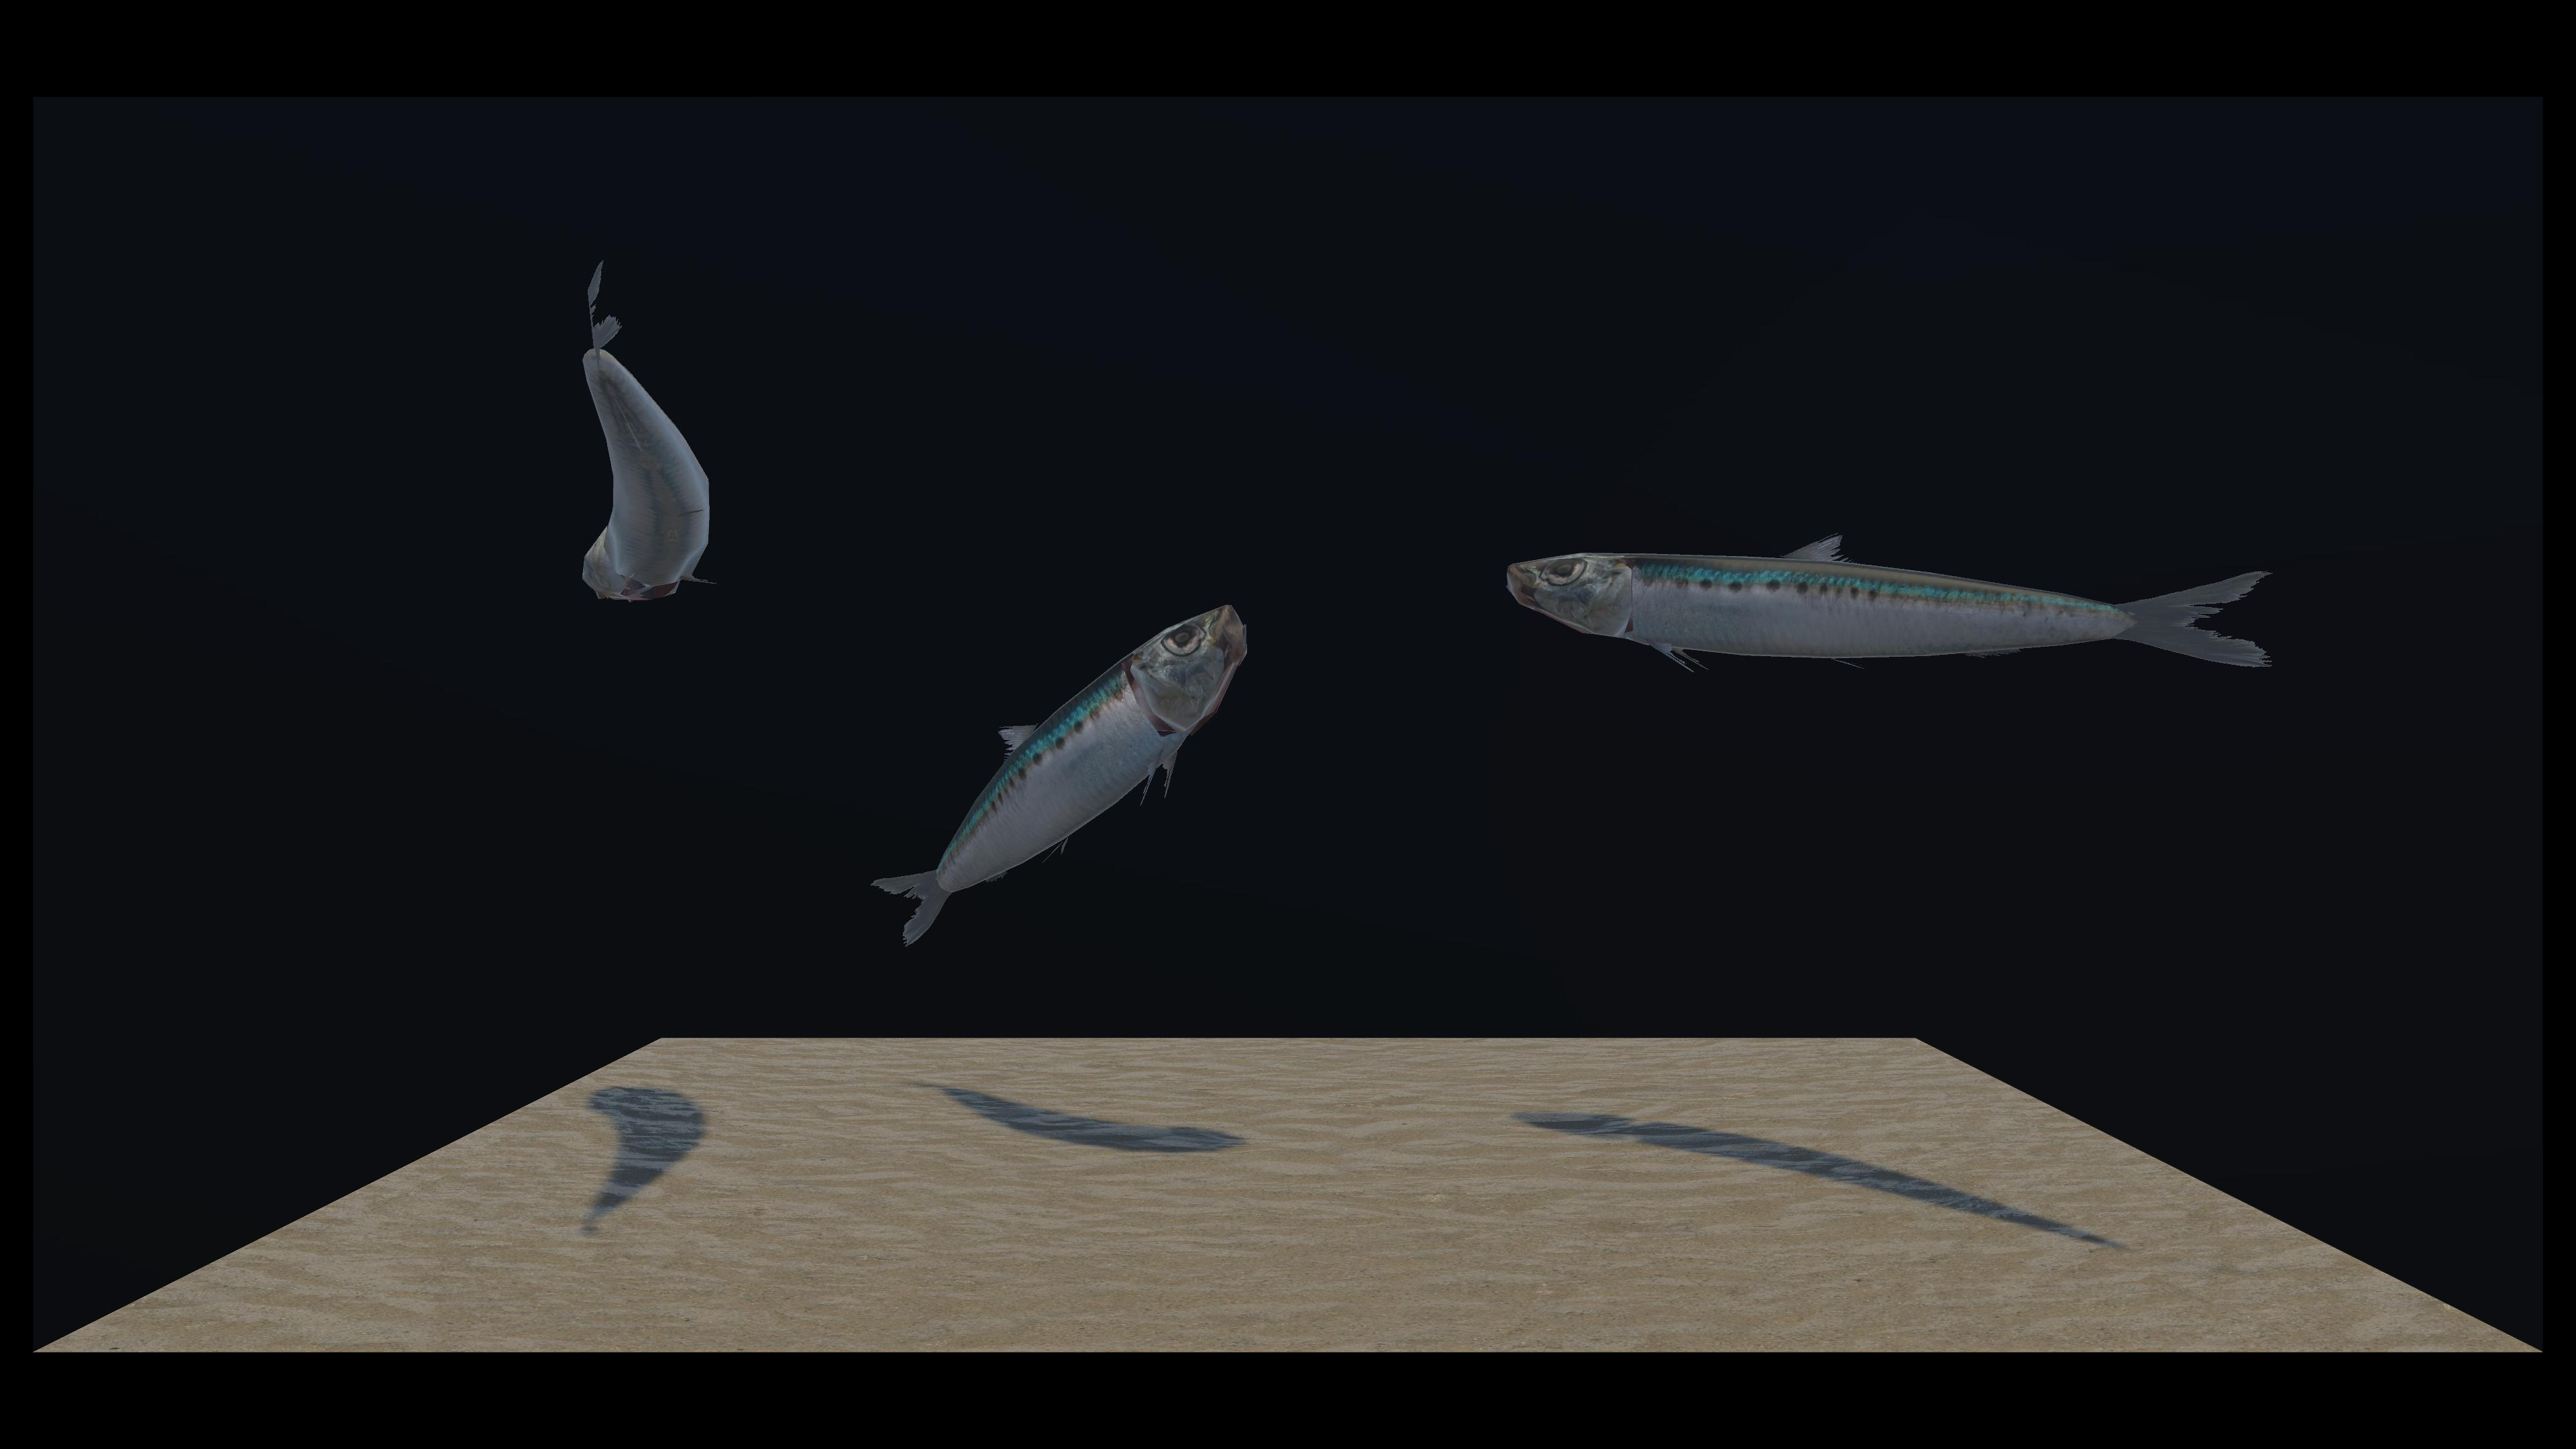Sardine_Front: (1047, 389, 2252, 681), (704, 607, 1224, 943), (586, 257, 860, 591)
